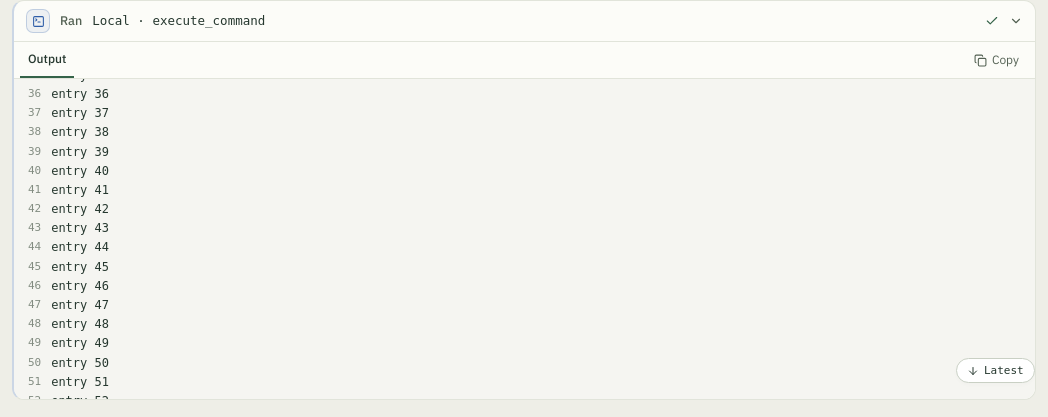
Test: shows the live tail and freezes the visible lines while reading older output
This screenshot has width=1048, height=417.
(page scrolled)
Check: the text "entry 61" is not shown
Click the button with aria-label "Jump to latest output" at (996, 370), box [956, 357, 1035, 383]
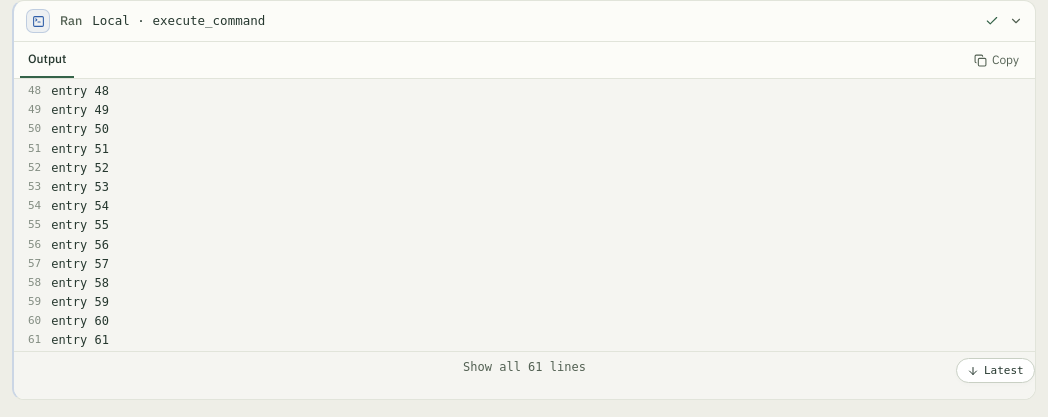
Check: the text "entry 61" is shown, box [51, 333, 109, 347]
